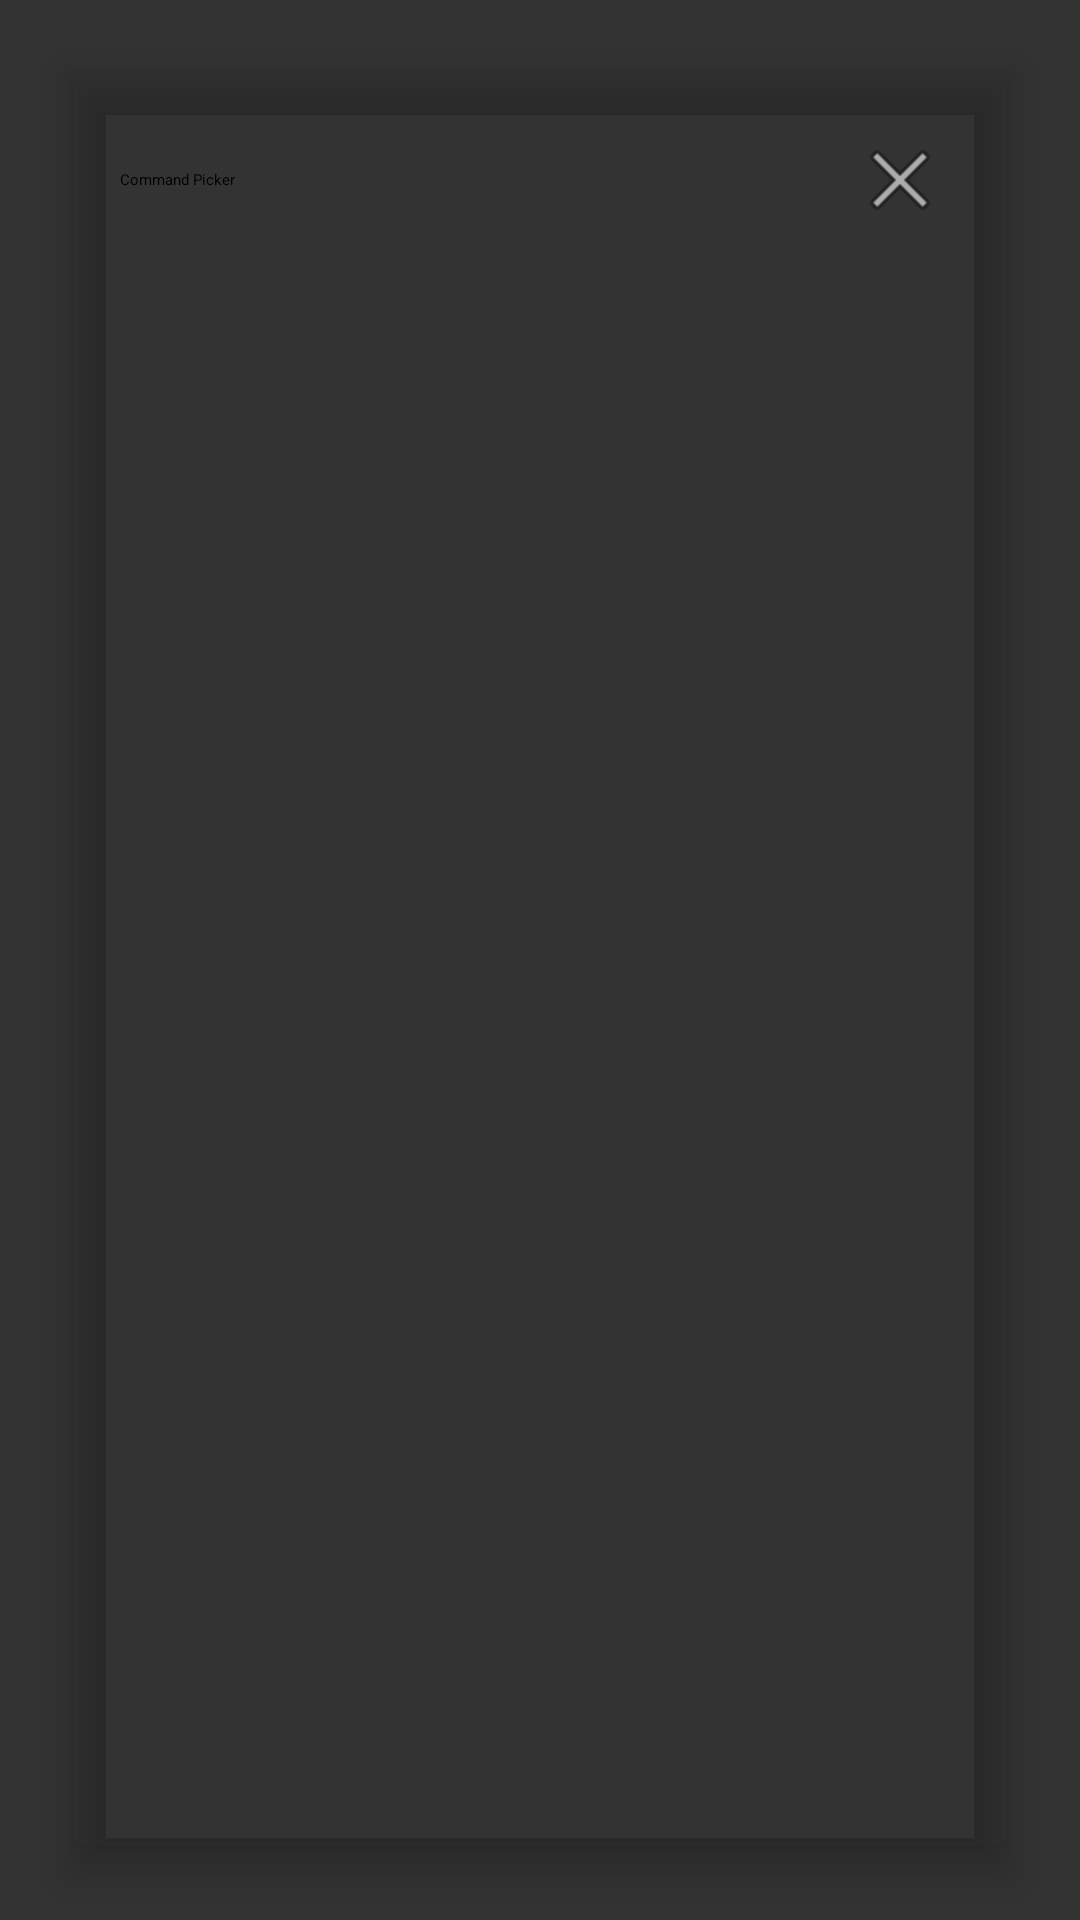

Where icons sit on this 1080x1920 app screen, as (x1, y1, x2, y2):
close clear cancel: (873, 153, 927, 207)
